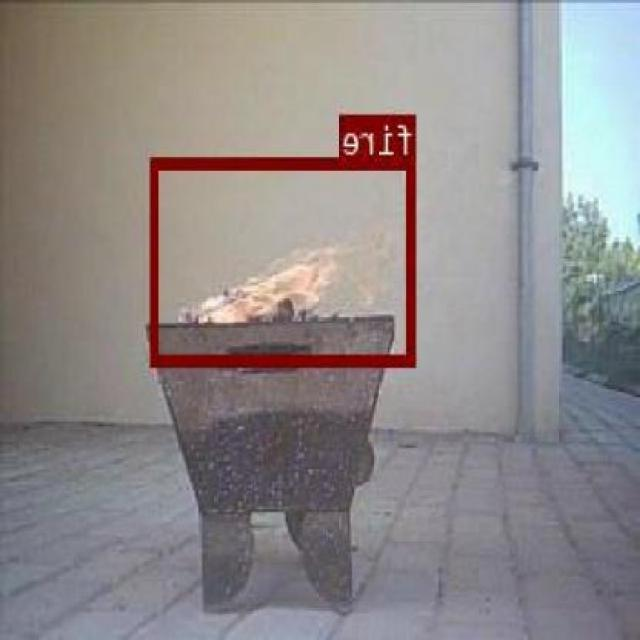fire: (152, 157, 418, 366)
